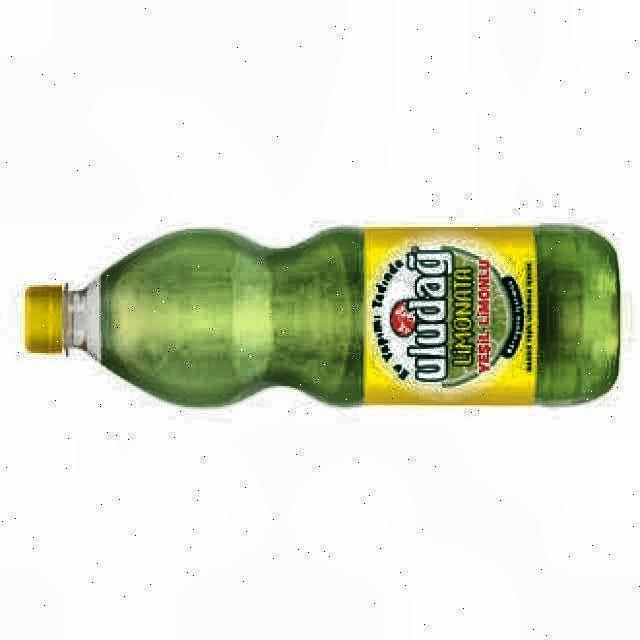plastic: (24, 228, 620, 404)
